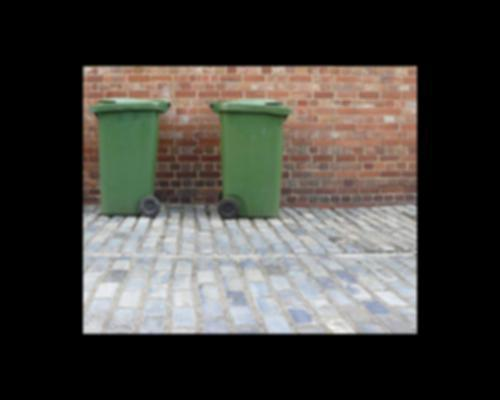Bote de Basura: (90, 93, 170, 219), (215, 95, 289, 221)
